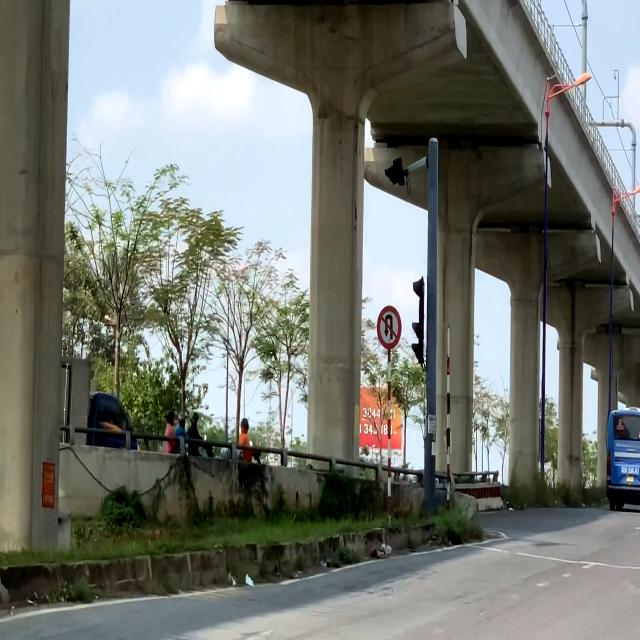P.124a: (376, 304, 403, 351)
